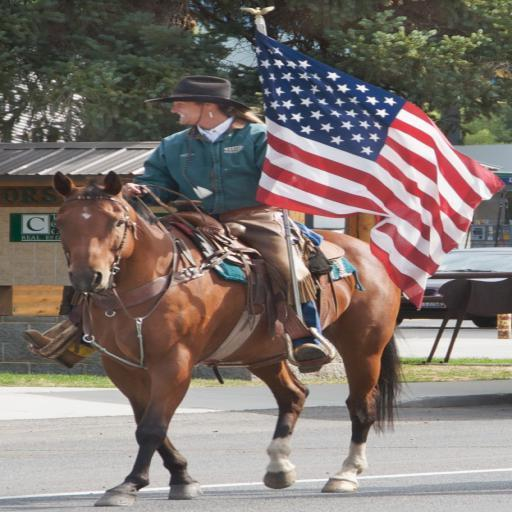horse: (50, 170, 409, 510)
